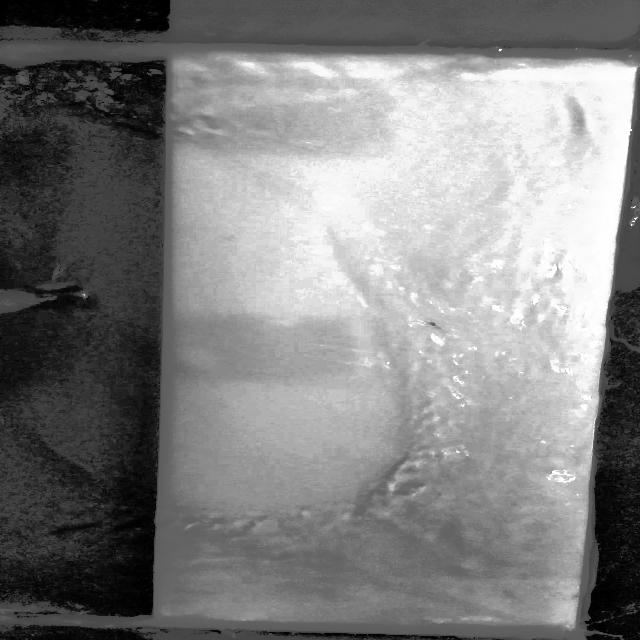shrimp: (417, 316, 444, 332)
